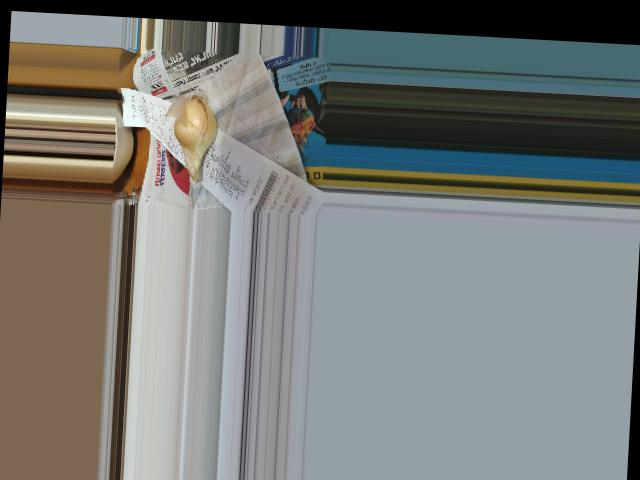onion: (174, 95, 216, 175)
